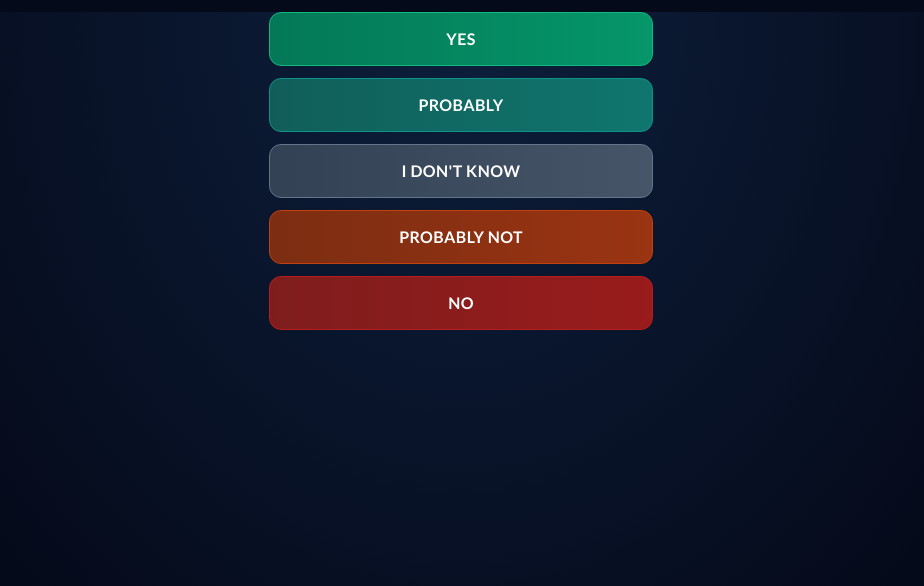
Test: AnswerButtons › shows loading spinner only on the clicked button
This screenshot has width=924, height=586.
Step 1. Click the button "Yes" → (461, 39), box [269,12,653,66]
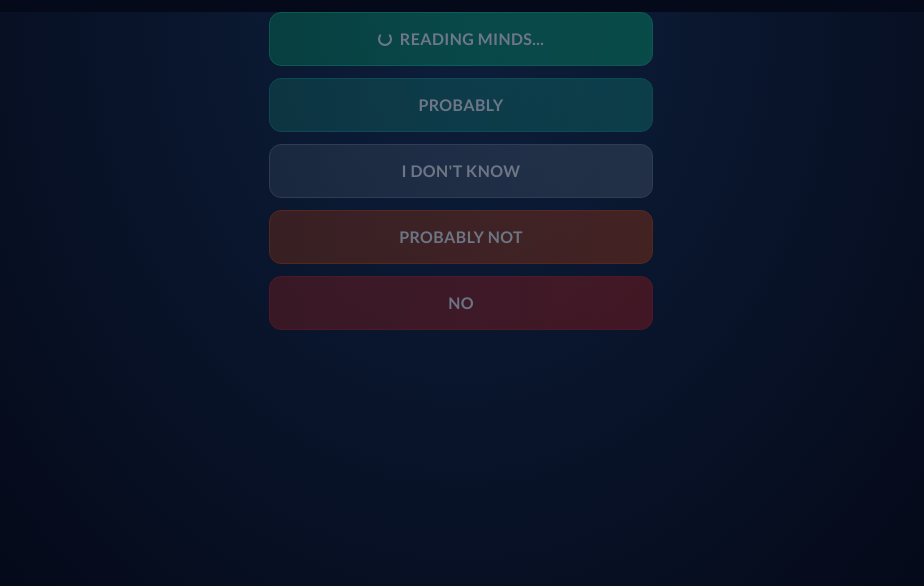
Now the text "Reading minds..." is shown once, box [378,29,544,48]
